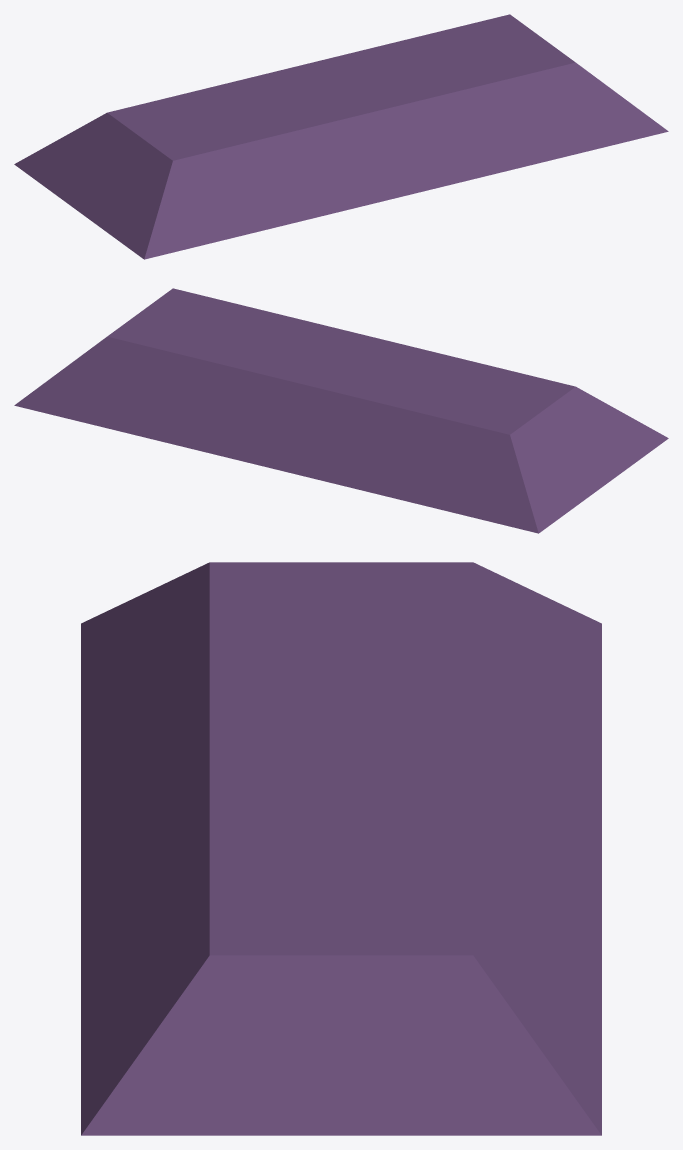
File: BlackBronzeBar.glb
3 renders of one model, top to bottom at view 1: azimuth 30°, elevation 25°; view 2: azimuth 150°, elevation 25°; view 3: azimuth 270°, elevation 25°, orthographic. The views are drawn at different scales.
Parts seen in each view (by area): view 1: BlackBronzeBar; view 2: BlackBronzeBar; view 3: BlackBronzeBar.
Part boxes in pixels (x1=…): BlackBronzeBar: x1=14, y1=14, x2=668, y2=259; BlackBronzeBar: x1=14, y1=288, x2=668, y2=533; BlackBronzeBar: x1=81, y1=562, x2=601, y2=1135.
Bounding box in the file's own units: 4.19 × 0.4602 × 1.8.
